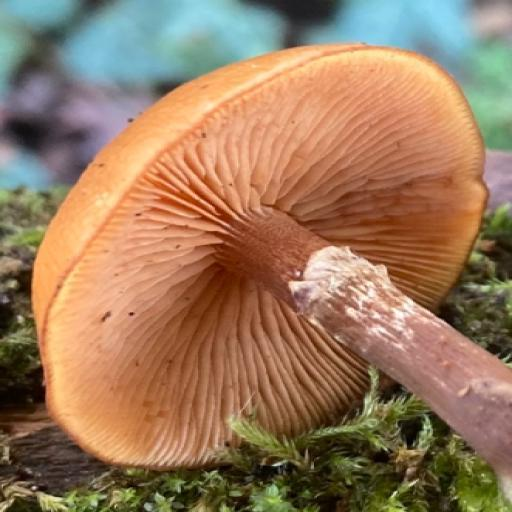mushroom: (31, 36, 502, 471)
